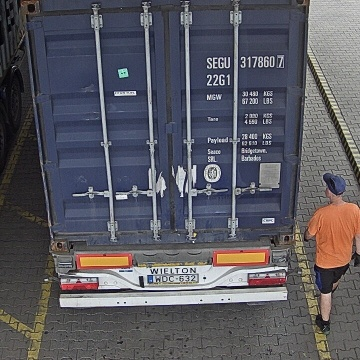serial_id: (207, 55, 284, 68)
